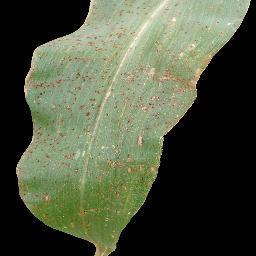Corn_Common_Rust: (6, 0, 255, 256)
